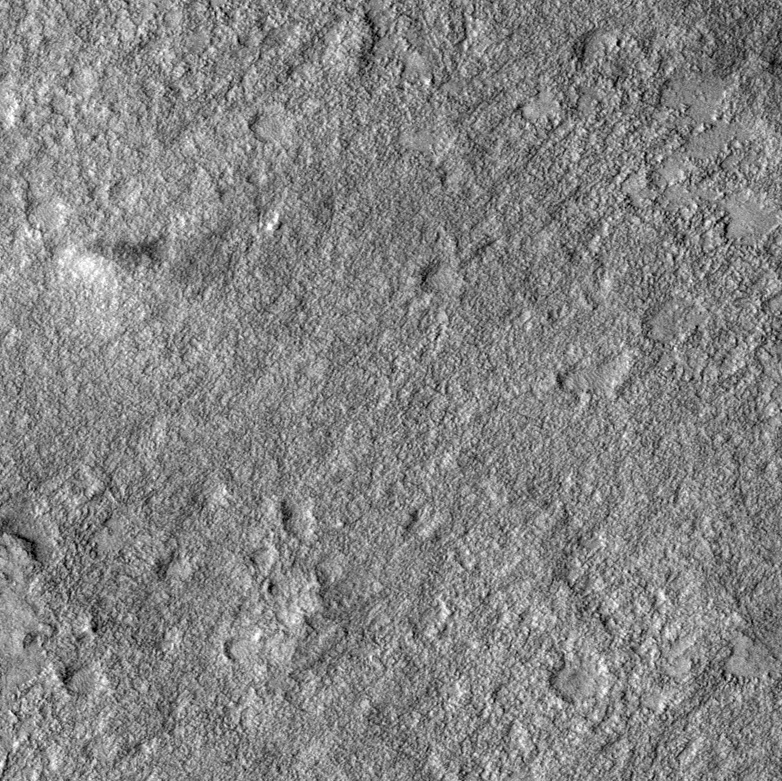dust_devil: (69, 231, 171, 288)
